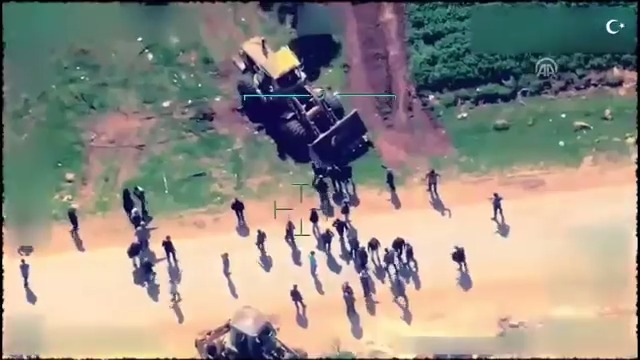arac: (226, 28, 379, 174)
insan: (487, 187, 509, 225), (449, 237, 472, 270), (62, 205, 84, 237), (230, 196, 249, 229), (381, 245, 401, 276), (162, 234, 181, 266), (423, 164, 448, 188), (383, 166, 402, 197), (19, 256, 36, 289), (309, 203, 325, 238), (282, 216, 299, 246), (290, 281, 305, 314), (255, 226, 271, 255), (219, 248, 234, 275), (367, 236, 382, 263), (309, 243, 318, 283)
